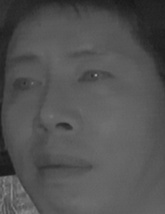eye: (77, 65, 115, 89), (8, 75, 44, 97)
mouth: (31, 150, 97, 184)
